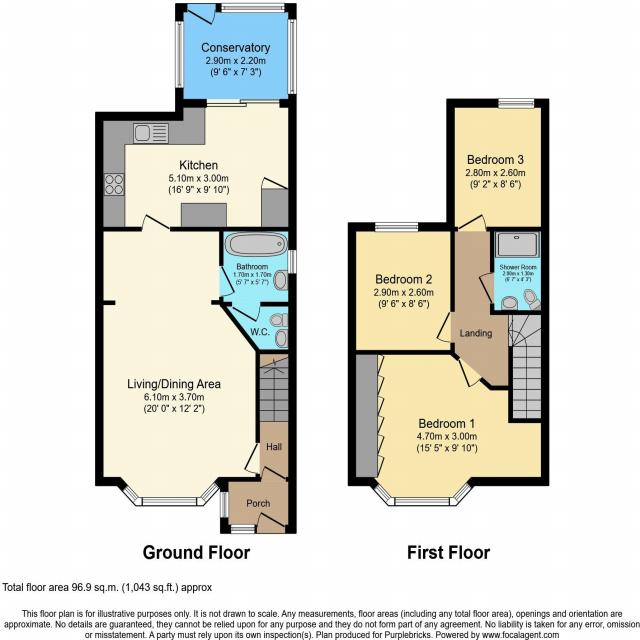DOOR: (457, 356, 483, 388), (230, 301, 261, 324), (435, 310, 455, 344), (218, 263, 237, 298), (477, 271, 495, 305), (457, 213, 488, 232), (141, 213, 171, 232)
ROOM: (95, 212, 260, 507), (347, 350, 550, 507), (95, 99, 297, 232), (347, 222, 455, 356), (446, 98, 550, 232)
WINDOW: (372, 481, 473, 507), (121, 481, 221, 507), (374, 222, 419, 233), (497, 98, 535, 109), (287, 249, 297, 274)
